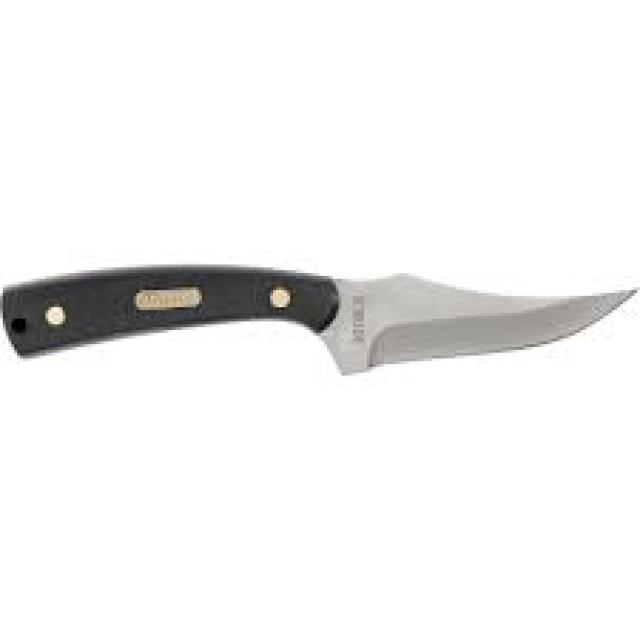knives: (0, 253, 637, 381)
